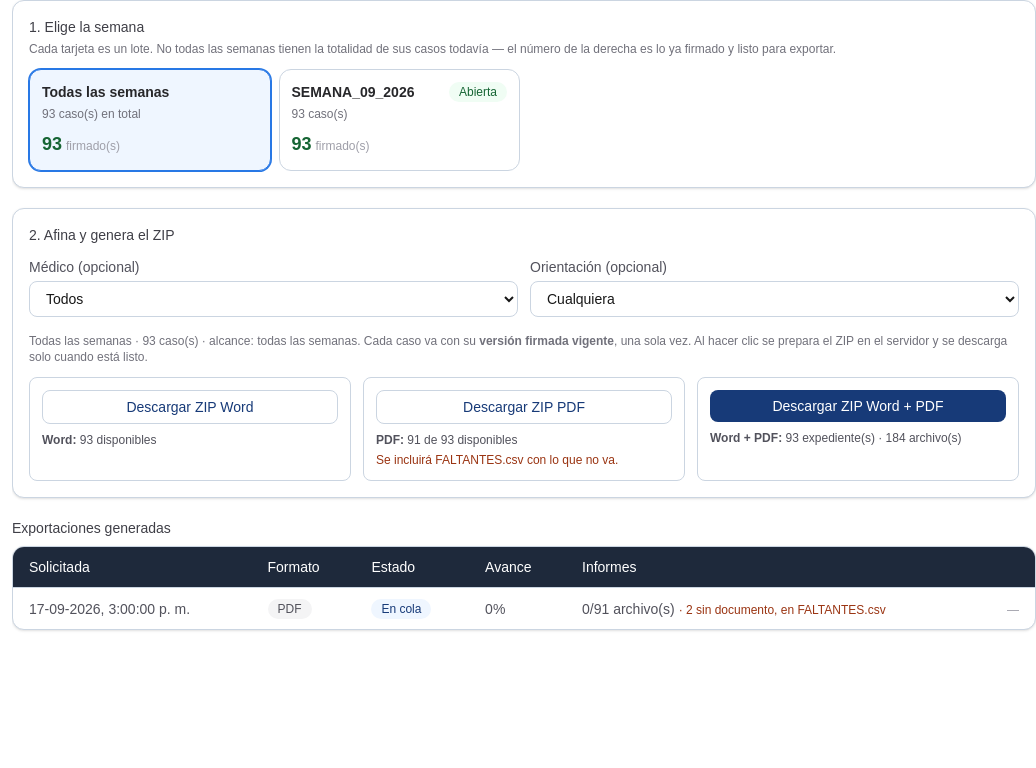
Exportaciones · ZIP Word y ZIP PDF › pedir el PDF manda format=pdf, muestra su carga y NO bloquea el Word; al quedar listo baja solo y dice cuántos faltan
Expected: the element showing "PDF: 91 de 93 disponibles" is shown, [376,433,517,447]
Click the button "SEMANA_09_2026 Abierta 93 caso(s) 93firmado(s)" at (399, 120), box [278,69,520,171]
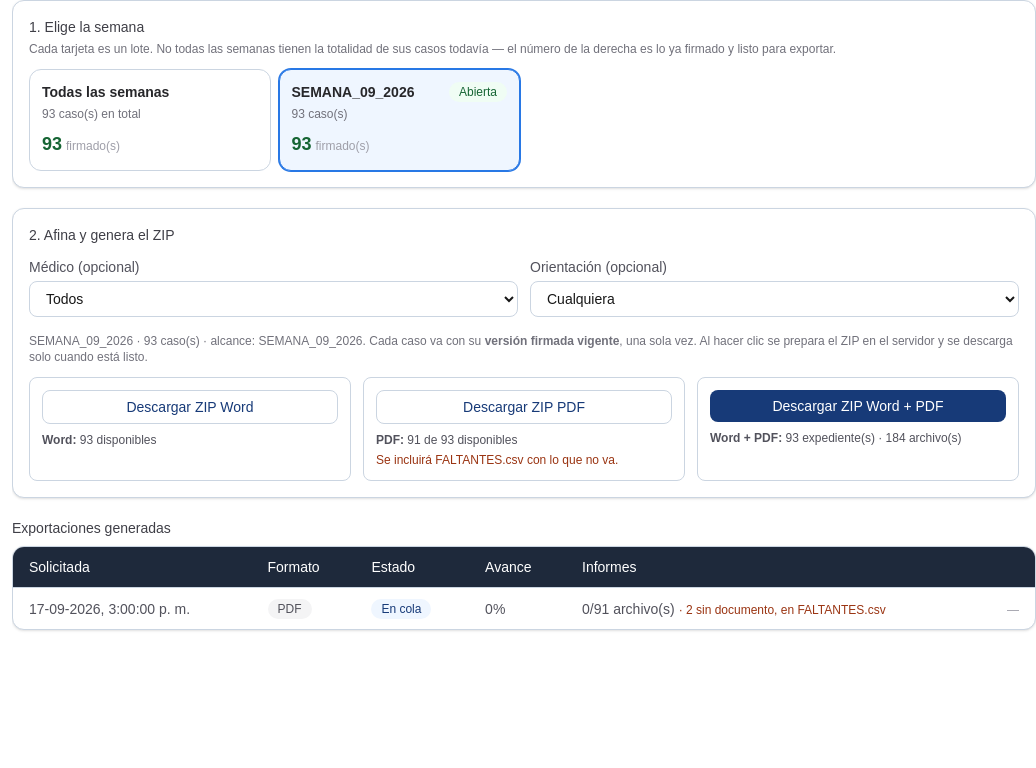
Click the button "Descargar ZIP PDF" at (524, 407), box [376,390,672,424]
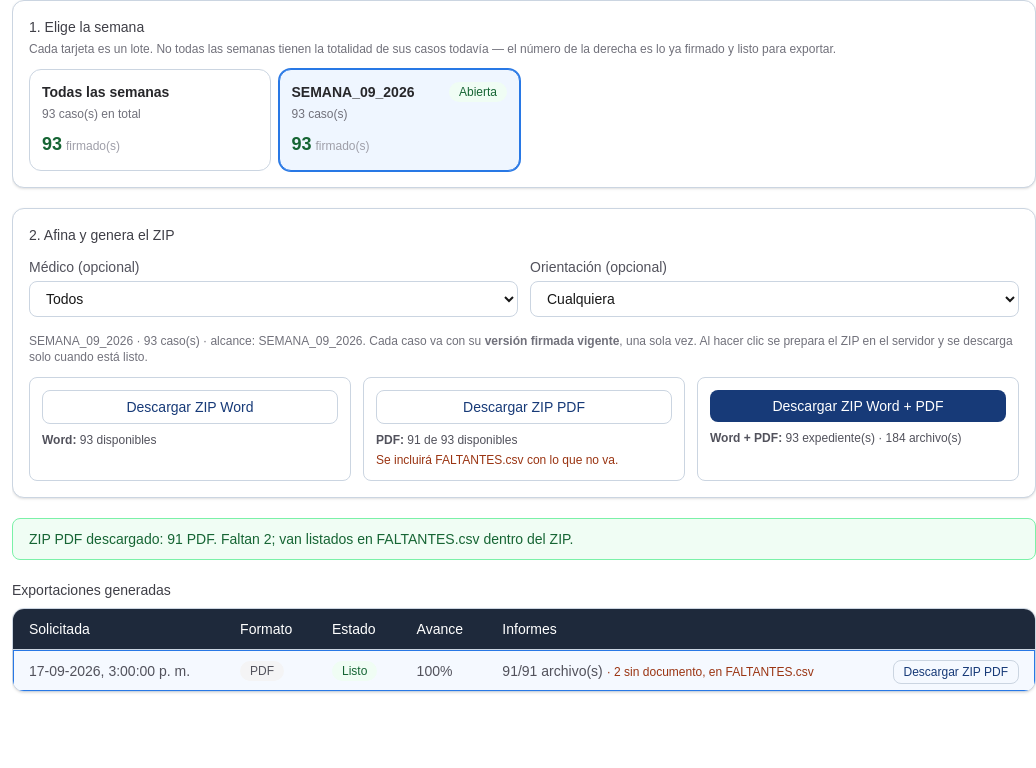
Expected: the button "Descargar ZIP Word" is enabled, [42,390,338,424]
Result: the text "ZIP PDF descargado: 91 PDF. Faltan 2; van listados en FALTANTES.csv" is shown at [29,531,574,547]
